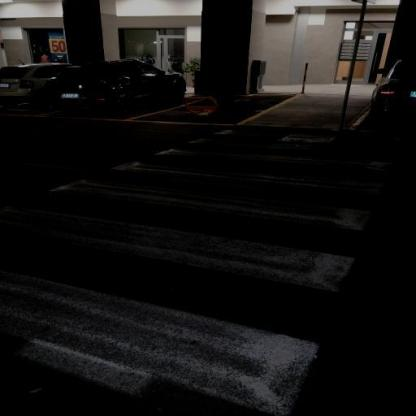crosswalk: (39, 158, 389, 234)
